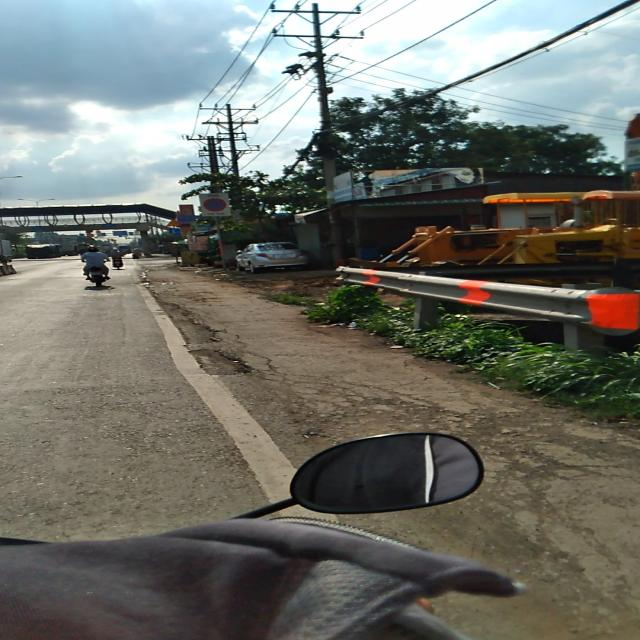Cam dung va do: (203, 198, 227, 212)
